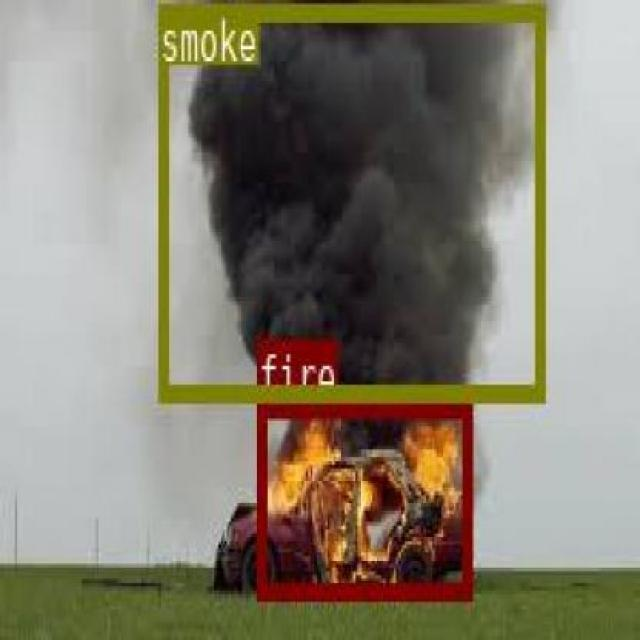CIV_Plane: (256, 399, 470, 596)
Fire: (256, 399, 470, 596)
Smoke: (156, 5, 541, 397)
